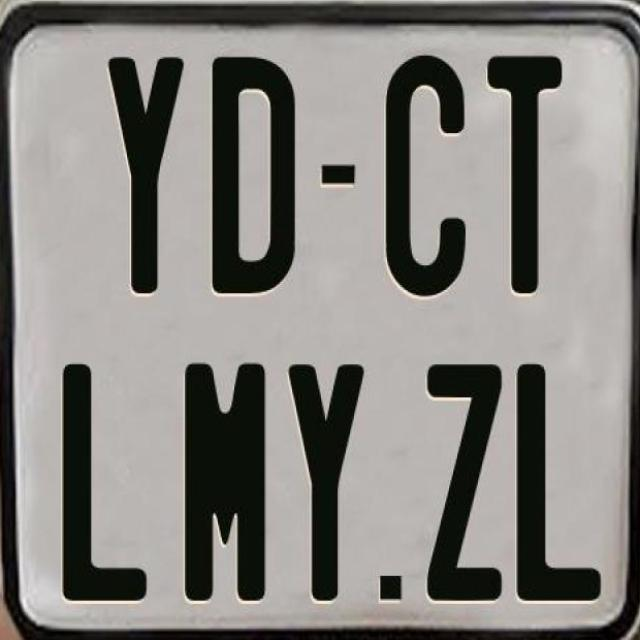license-plate: (8, 4, 621, 640)
